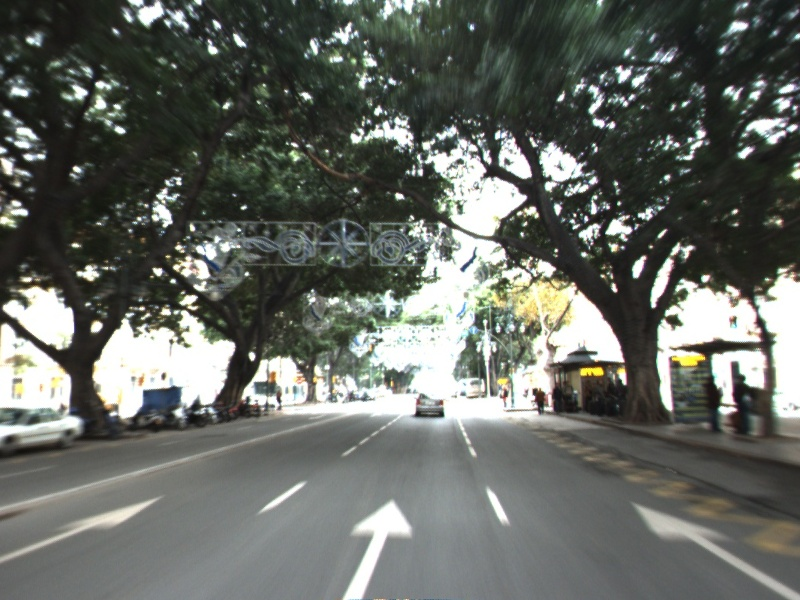STRAIGHT: (627, 496, 800, 600), (1, 491, 171, 565), (340, 495, 415, 600)
